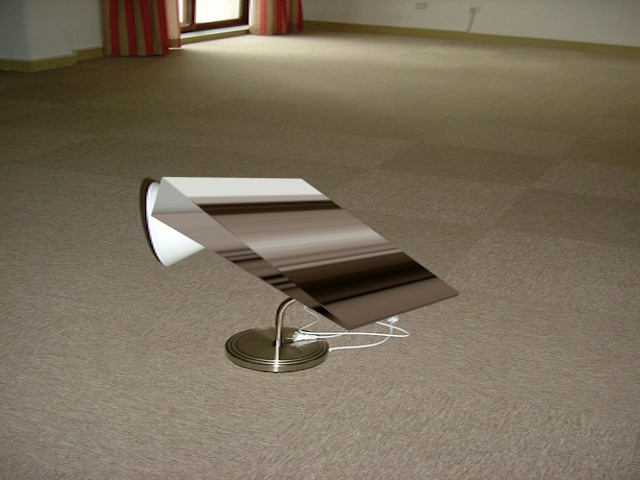ring_binder: (145, 176, 464, 337)
